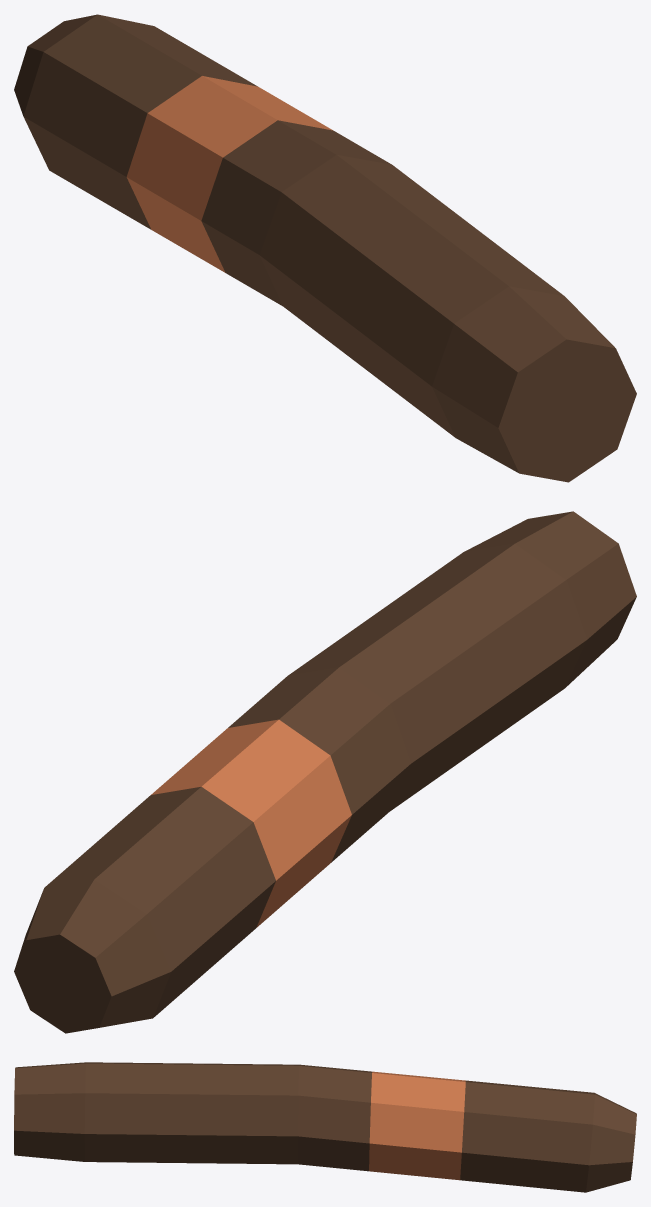
The model's file is Cigar.fbx.
3 views of the same model, one above another, from view 1: azimuth 30°, elevation 25°; view 2: azimuth 150°, elevation 25°; view 3: azimuth 270°, elevation 25° (orthographic). The views are drawn at different scales.
Visible parts, largest first — view 1: Cylinder.006; view 2: Cylinder.006; view 3: Cylinder.006.
Boxes of the visible parts, x1,y1,x2,y2 form: Cylinder.006: (14, 14, 636, 482); Cylinder.006: (14, 511, 636, 1033); Cylinder.006: (14, 1062, 636, 1192).
Bounding box in the file's own units: 13.48 × 15.67 × 72.03.
